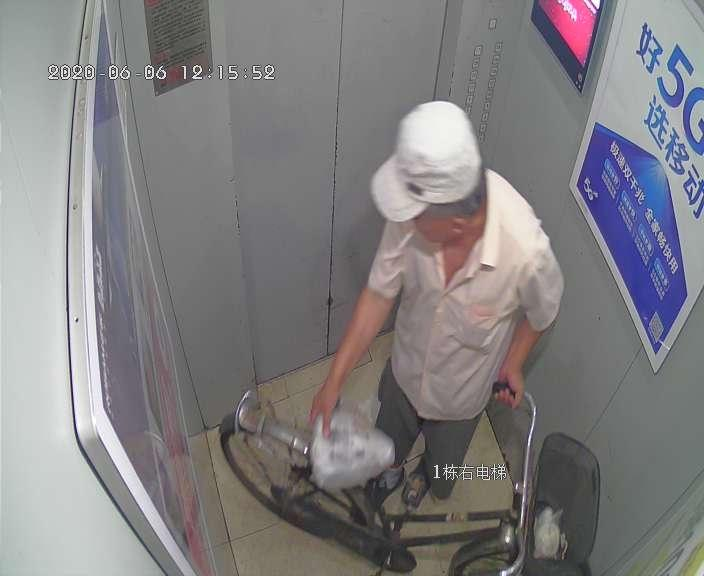person: (310, 103, 563, 466)
